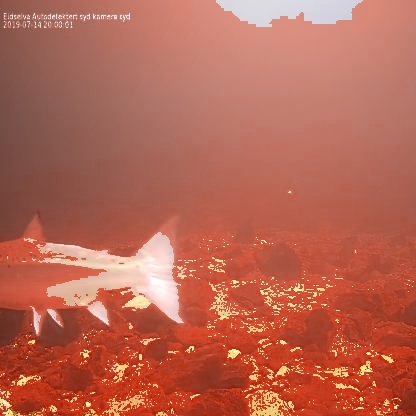salmon: (0, 209, 191, 340)
